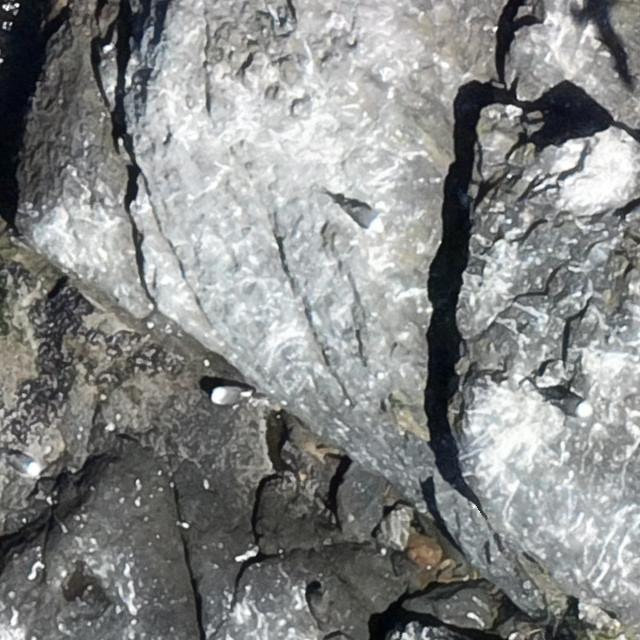umineko: (348, 205, 381, 230), (552, 396, 592, 416), (10, 454, 39, 474), (212, 387, 242, 406)
